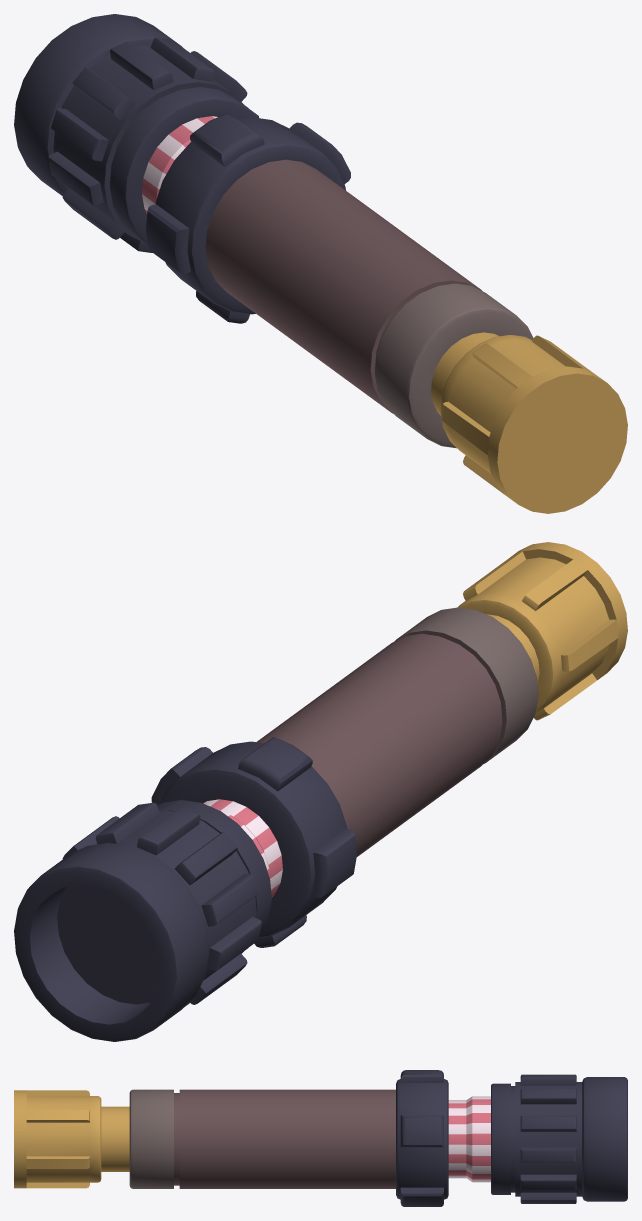
File: шланг.fbx
3 renders of one model, top to bottom at view 1: azimuth 30°, elevation 25°; view 2: azimuth 150°, elevation 25°; view 3: azimuth 270°, elevation 25°, orthographic. The views are drawn at different scales.
Visible parts, largest first — view 1: Цилиндр; view 2: Цилиндр; view 3: Цилиндр.
Boxes of the visible parts, box(x1,y1,x2,y2) form: Цилиндр: box(14, 14, 627, 513); Цилиндр: box(14, 542, 627, 1041); Цилиндр: box(14, 1070, 627, 1206).
Bounding box in the file's own units: 41.81 × 41.66 × 190.
